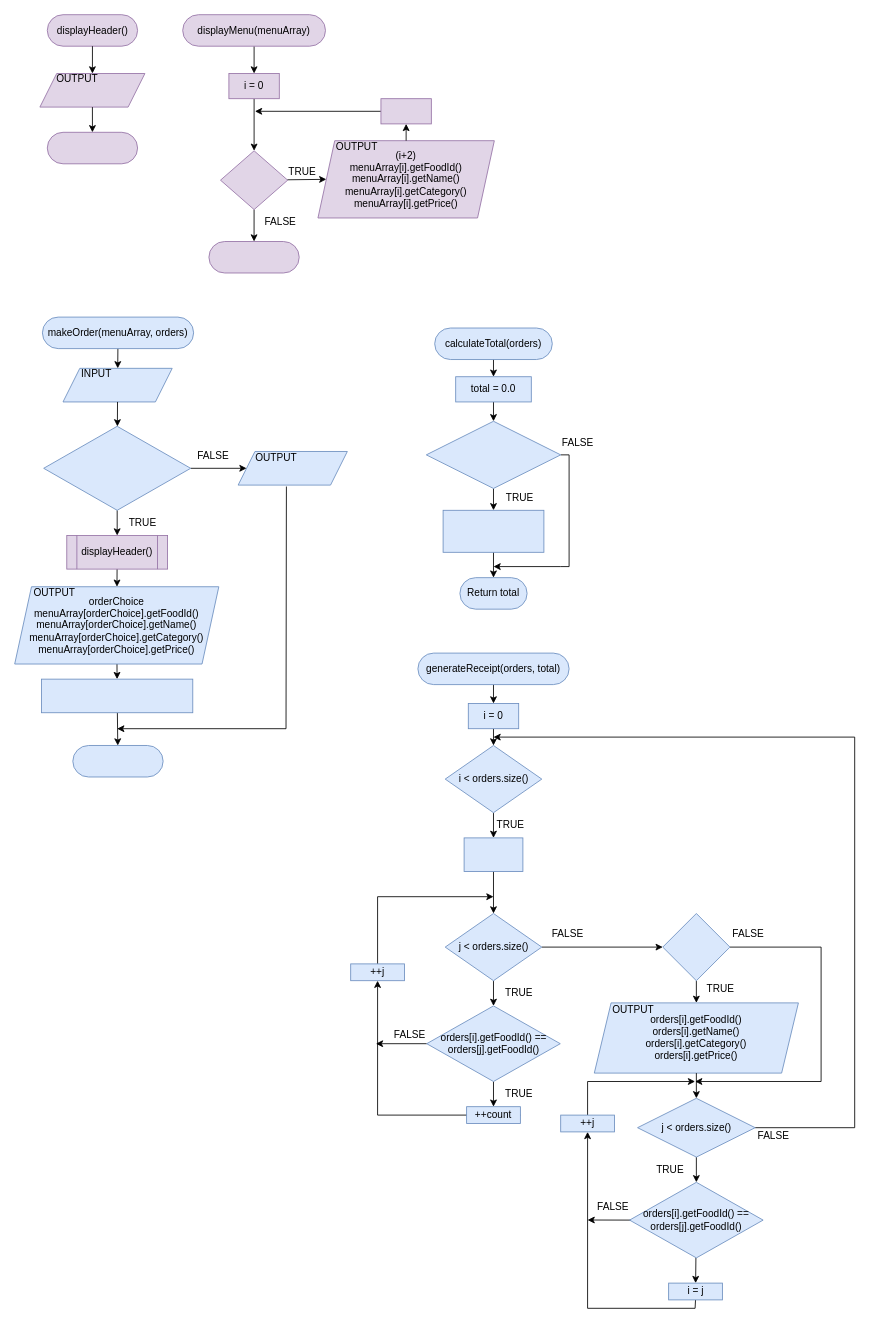
The diagram is 876 pixels wide and 1330 high, and some of its shapes have lost their labels. Each missing label, with the box of its shape:
"Invalid": (237, 451, 347, 485)
const Menu& order : order: (425, 420, 561, 488)
count = 1 j = 0: (463, 837, 523, 872)
count > 0: (662, 913, 730, 981)
Header: (39, 73, 145, 107)
i < SIZE: (220, 150, 288, 210)
i++: (380, 98, 431, 124)
orderChoice: (62, 368, 172, 402)
orderChoice >= 1 && orderChoice <= SIZE: (43, 425, 191, 510)
orders.push_back(menuArray): (41, 678, 193, 713)
total += order.getPrice(): (442, 509, 544, 552)
